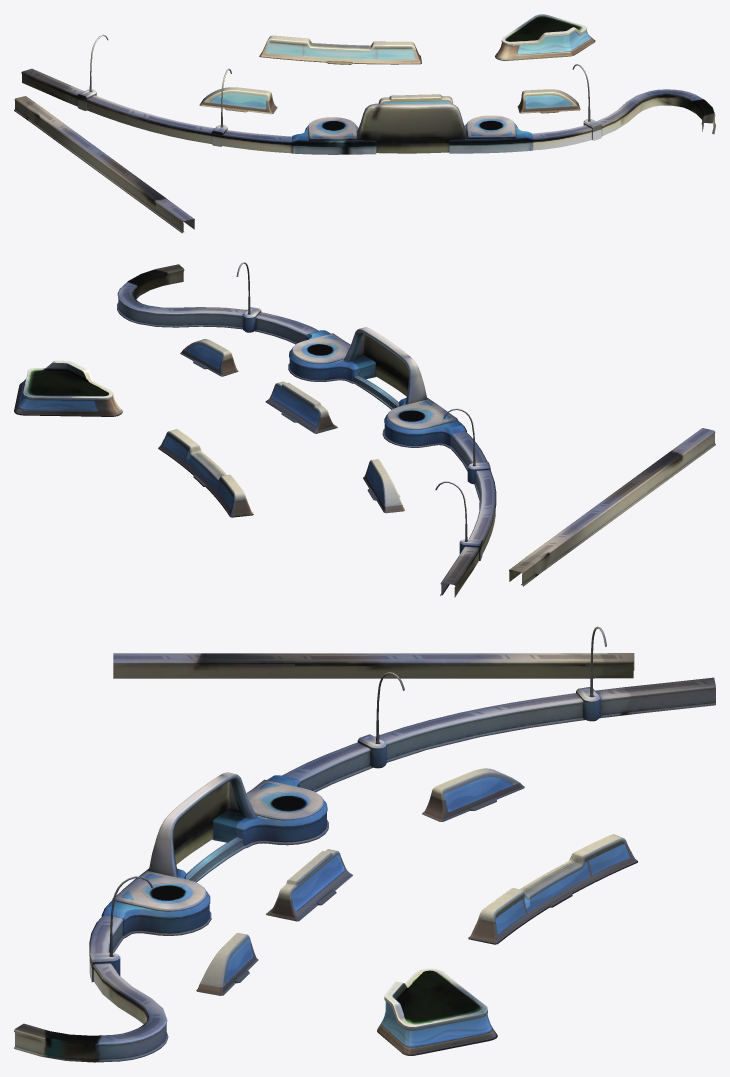
File: pref_sm_beach_bk_longblock_R01_lv2.fbx
The picture shows the model from 3 angles, top to bottom: view 1: azimuth 30°, elevation 25°; view 2: azimuth 150°, elevation 25°; view 3: azimuth 270°, elevation 25°; orthographic projection. The views are drawn at different scales.
Parts seen in each view (by area): view 1: sm_beach_bk_longblock_R01a_lv2, sm_beach_bk_longblock_R01b_lv2; view 2: sm_beach_bk_longblock_R01a_lv2, sm_beach_bk_longblock_R01b_lv2; view 3: sm_beach_bk_longblock_R01a_lv2, sm_beach_bk_longblock_R01b_lv2.
Part boxes in pixels (<box>): sm_beach_bk_longblock_R01a_lv2: <box>14,34,715,233</box>; sm_beach_bk_longblock_R01b_lv2: <box>199,14,595,114</box>; sm_beach_bk_longblock_R01a_lv2: <box>117,262,715,597</box>; sm_beach_bk_longblock_R01b_lv2: <box>14,339,405,517</box>; sm_beach_bk_longblock_R01a_lv2: <box>14,626,715,1062</box>; sm_beach_bk_longblock_R01b_lv2: <box>196,768,637,1055</box>.
Size of the model in its own units: 52.88 by 6.37 by 40.05.
